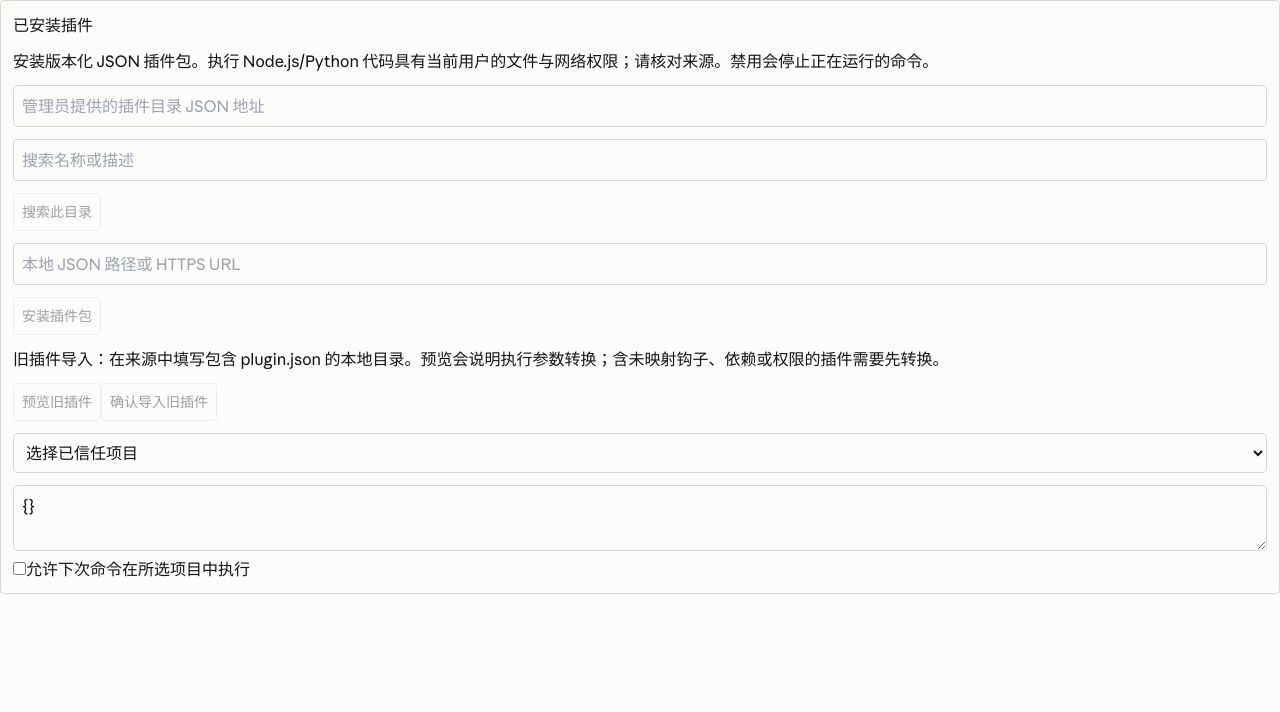
Test: separates legacy preview and import and presents conversion errors
This screenshot has width=1280, height=712.
Type "D:/legacy-plugin" into the field named "插件包来源" at (640, 264), box [13,243,1267,285]
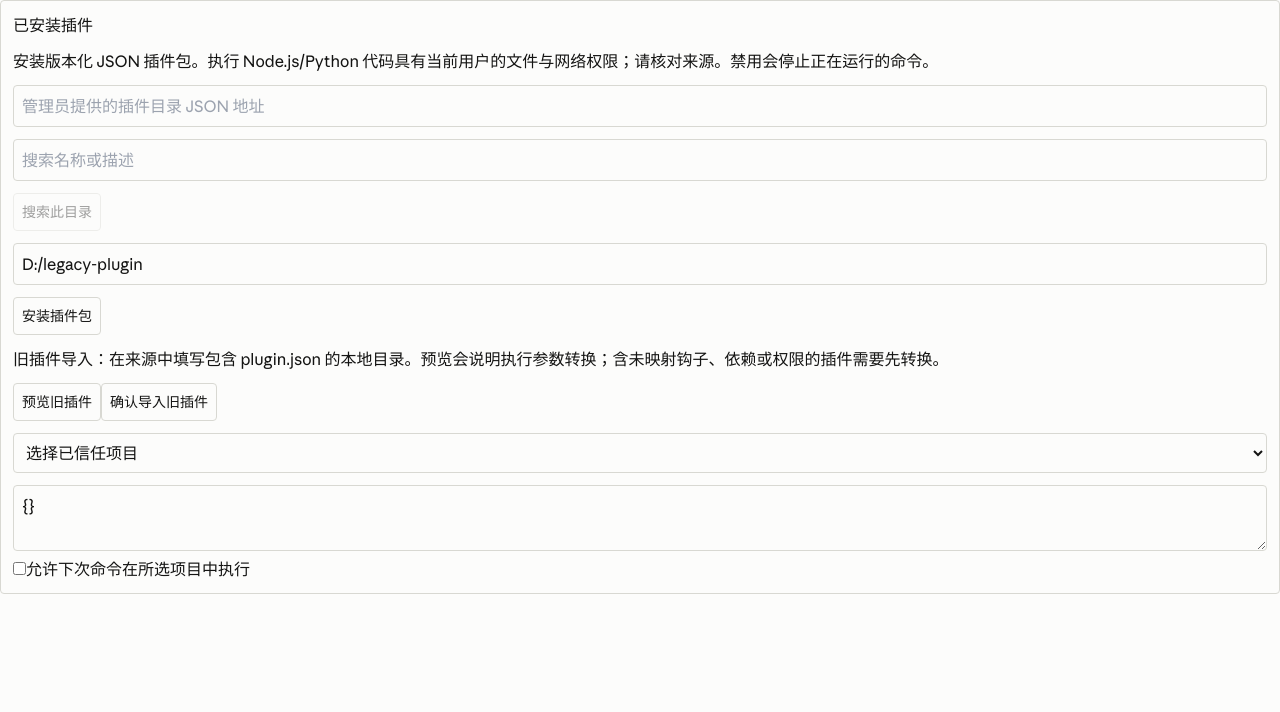
Click the button "预览旧插件" at (57, 402), box [13,383,101,421]
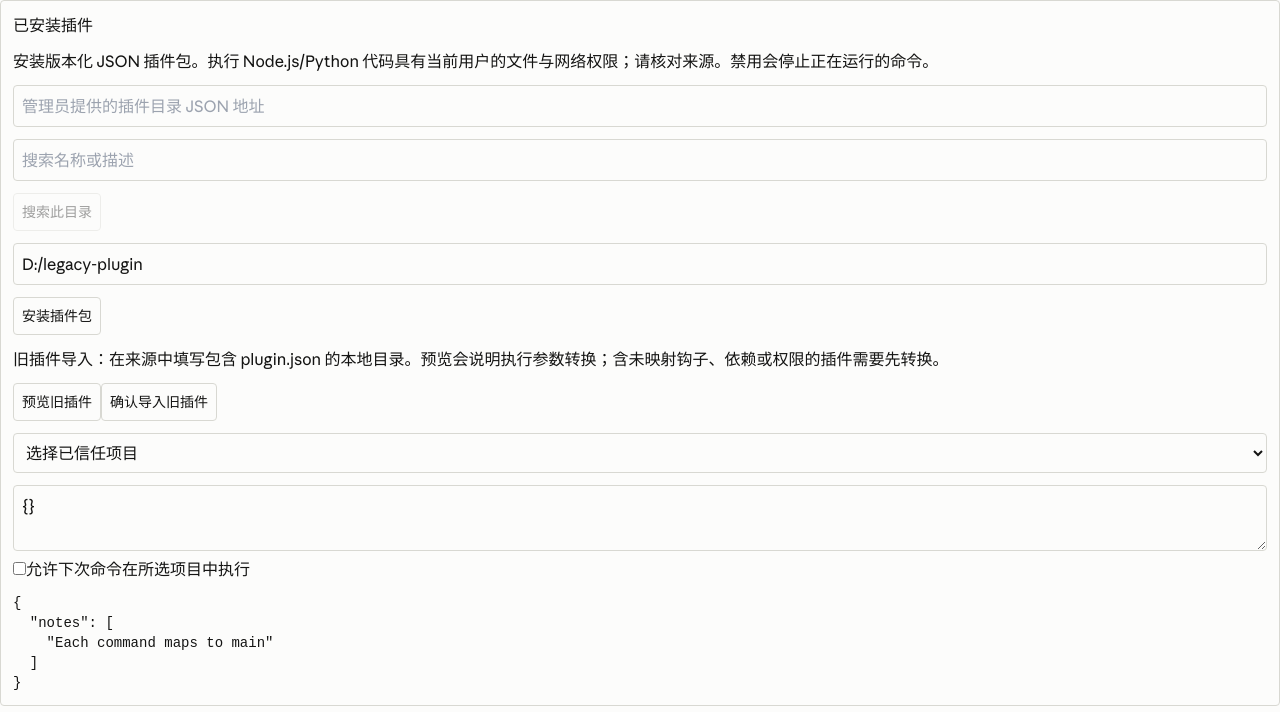
expect the text "{ \"notes\": [ \"Each command maps to main\" ] }" is shown: met, box [13,595,274,691]
Click the button "确认导入旧插件" at (159, 402), box [101,383,217,421]
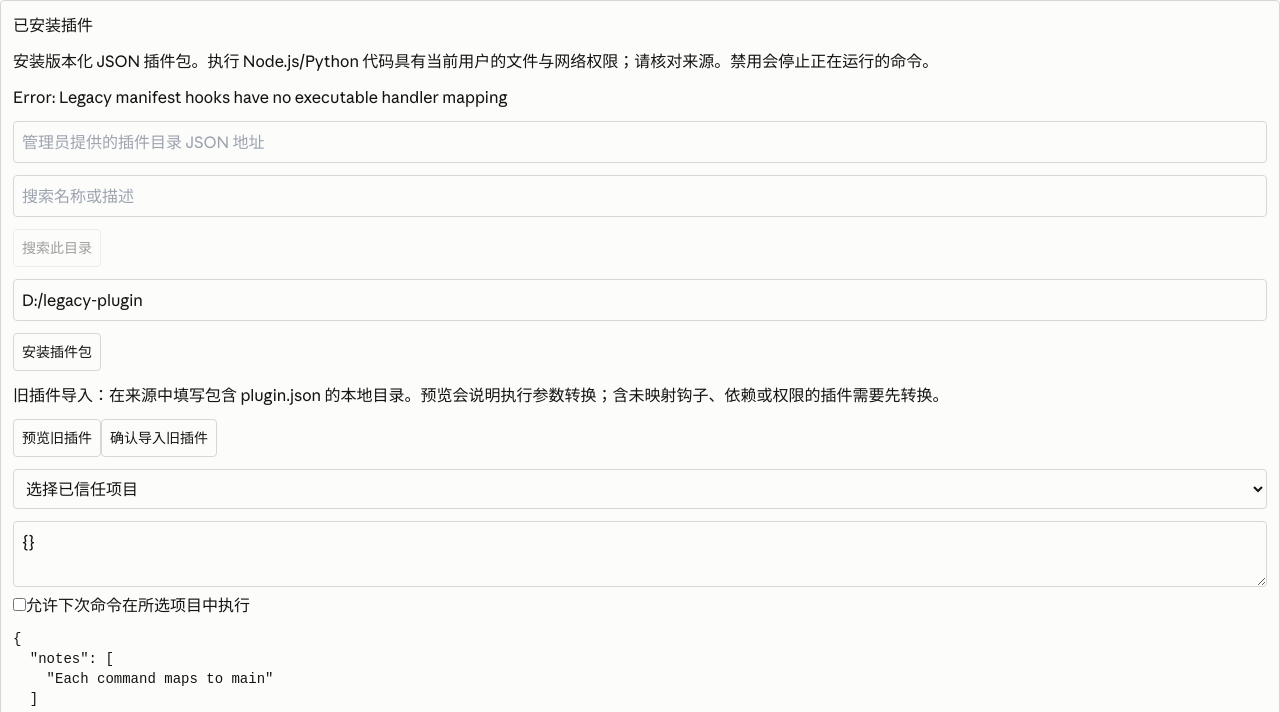
expect the message "Error: Legacy manifest hooks have no executable handler mapping" is shown: met, box [13,87,508,107]
